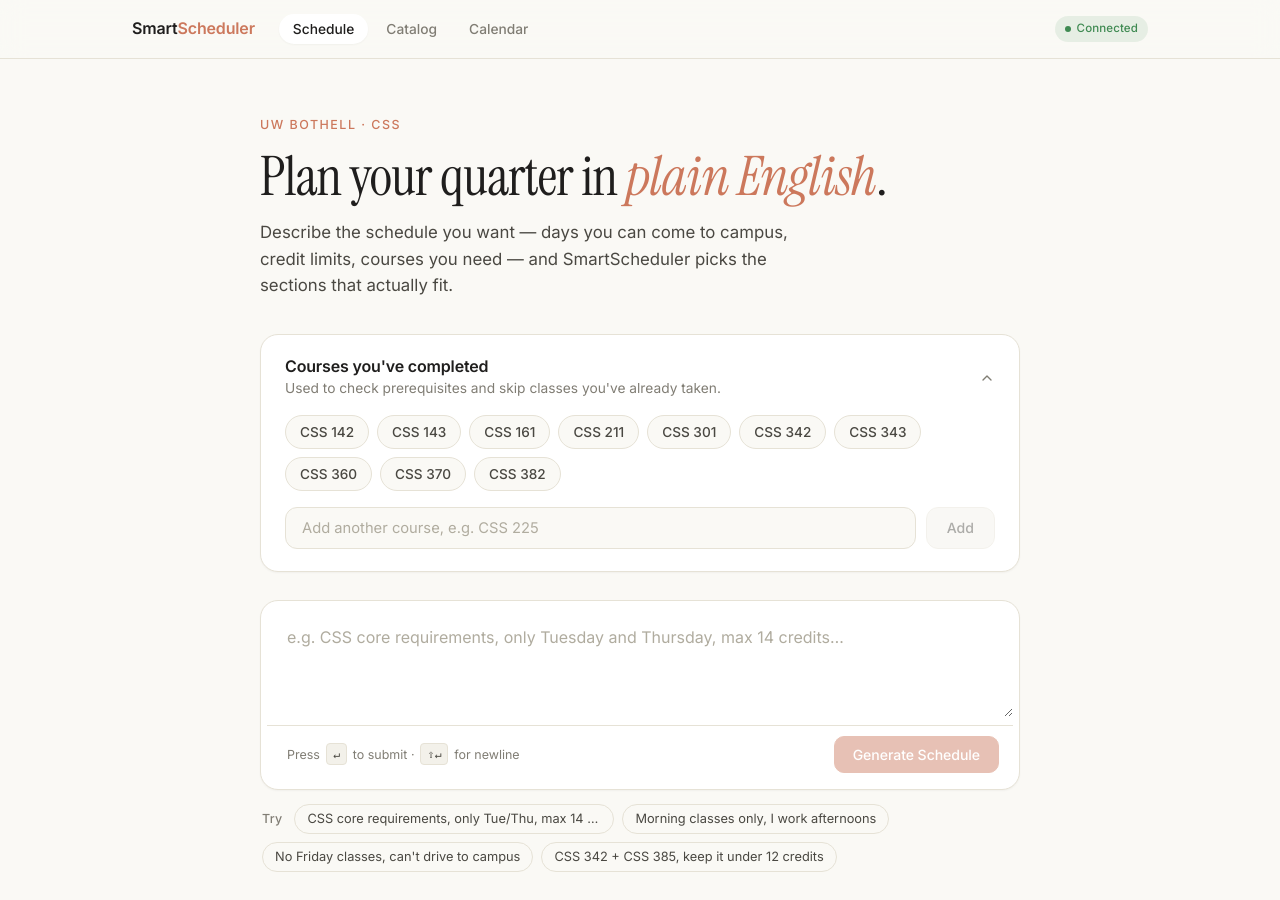
Test: catalog nav loads and shows available courses
Expected: the text "Connected" is shown, [1055,16,1148,42]
Click the button "Catalog".
click(412, 29)  # box [372,14,451,44]
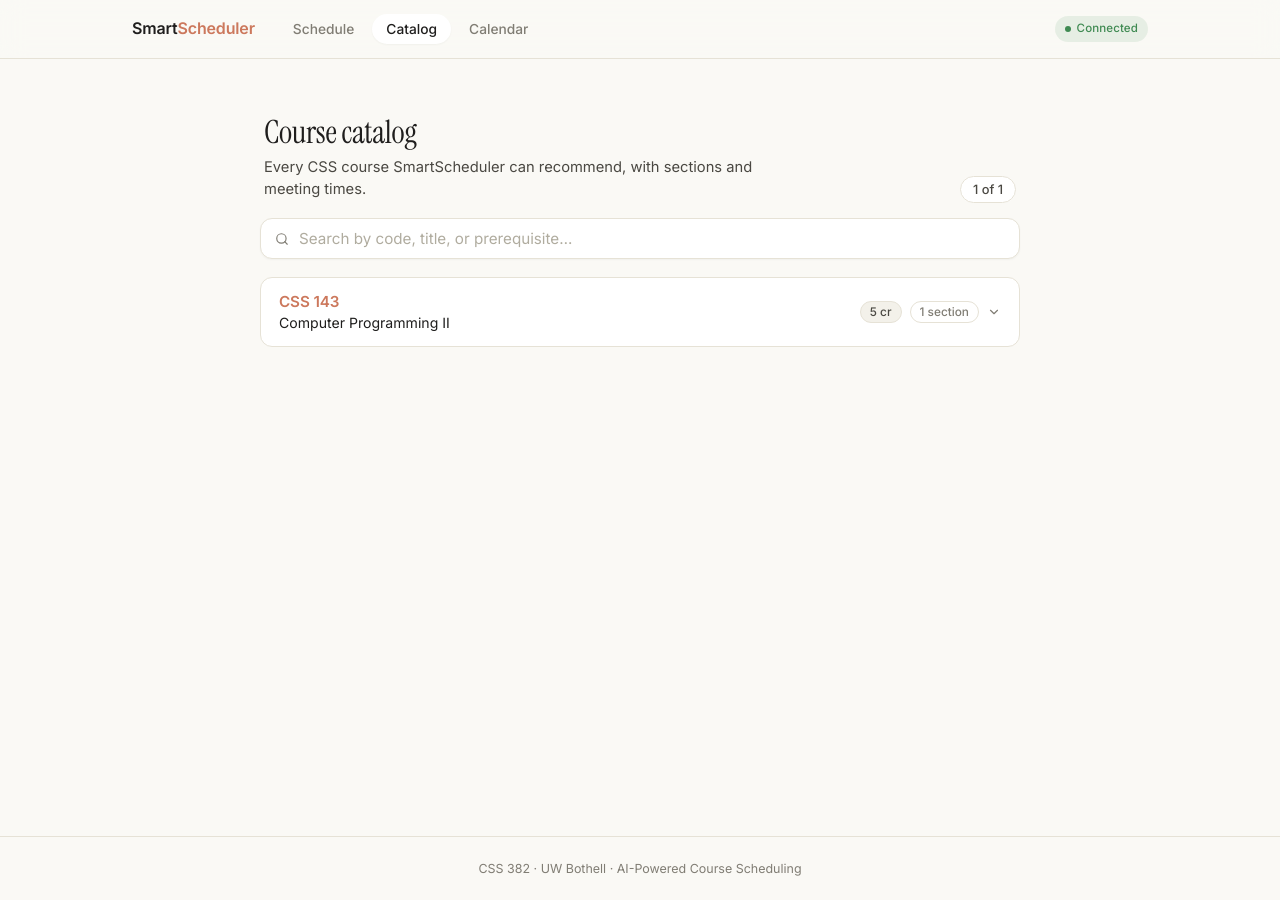
Expected: the text "CSS 143" is shown, [279,292,340,311]
Result: the text "Computer Programming II" is shown at [279,314,450,331]
